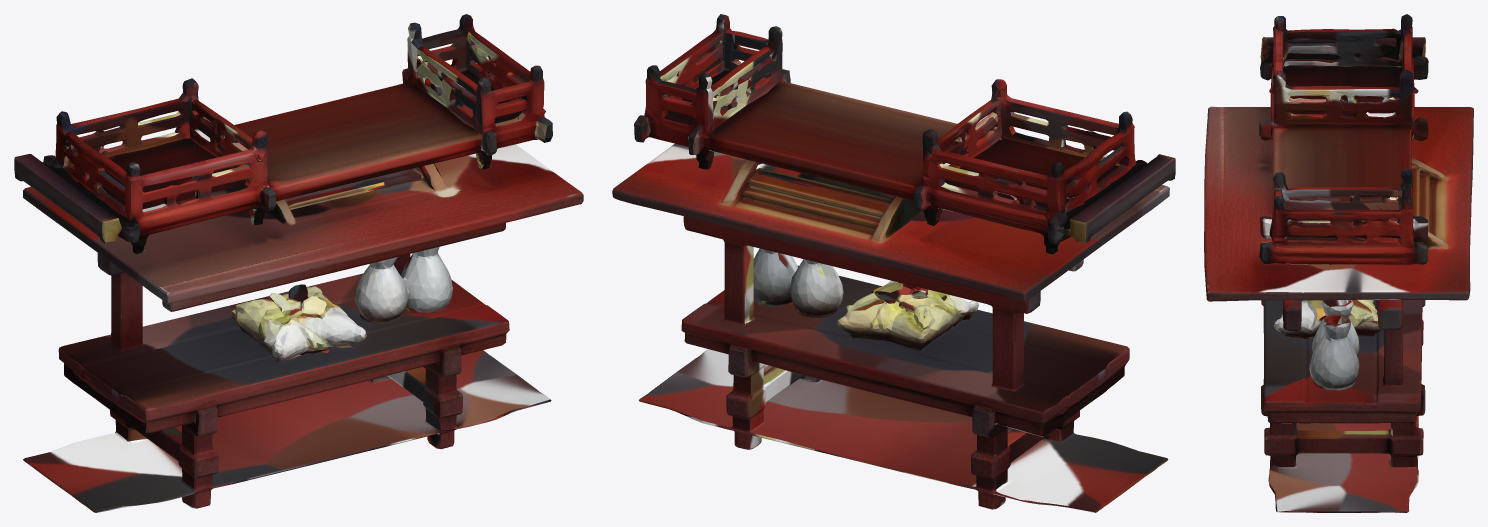
File: phoenix_cave_fox_offering_table.glb
3 renders of one model, left to right at view 1: azimuth 30°, elevation 25°; view 2: azimuth 150°, elevation 25°; view 3: azimuth 270°, elevation 25°, orthographic. The views are drawn at different scales.
Parts seen in each view (by area): view 1: temp_mesh.ply; view 2: temp_mesh.ply; view 3: temp_mesh.ply.
Part boxes in pixels (x1,y1,x2,y2): temp_mesh.ply: (14, 14, 583, 512); temp_mesh.ply: (612, 14, 1175, 512); temp_mesh.ply: (1204, 14, 1473, 512).
Bounding box in the file's own units: 1.97 × 1.49 × 1.1.
1 material, 1 textured.
